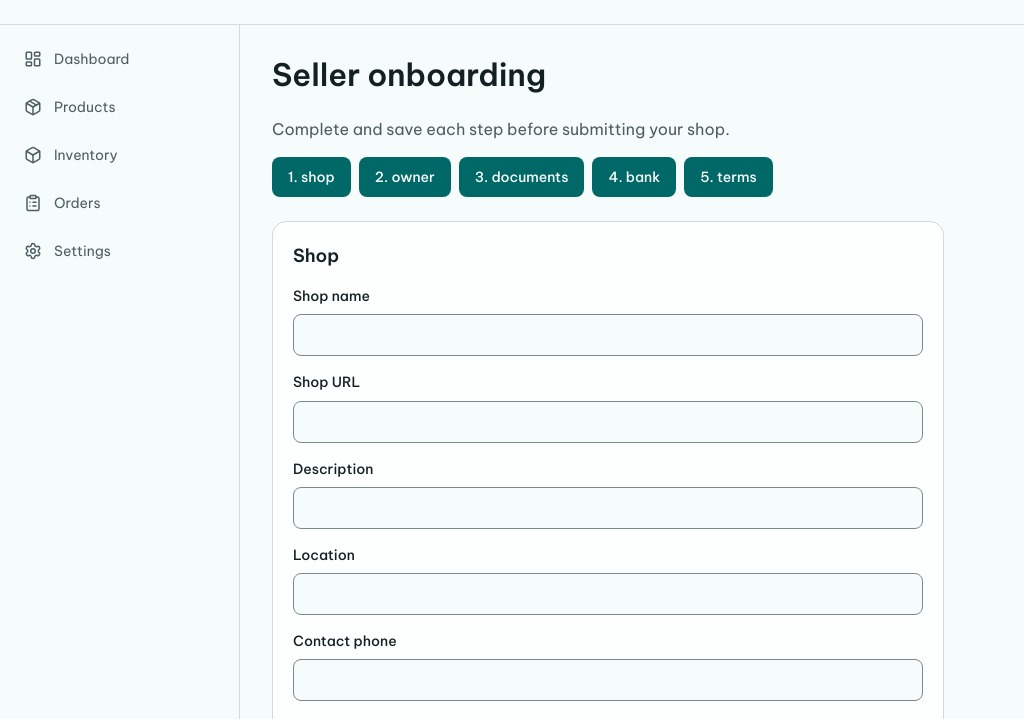
seller routes › saves an onboarding step with the submit button
In the field labelled "Shop name": x=608, y=335 [293, 314, 923, 356], type "New Shop"
In the field labelled "Shop URL": x=608, y=422 [293, 400, 923, 442], type "new-shop"
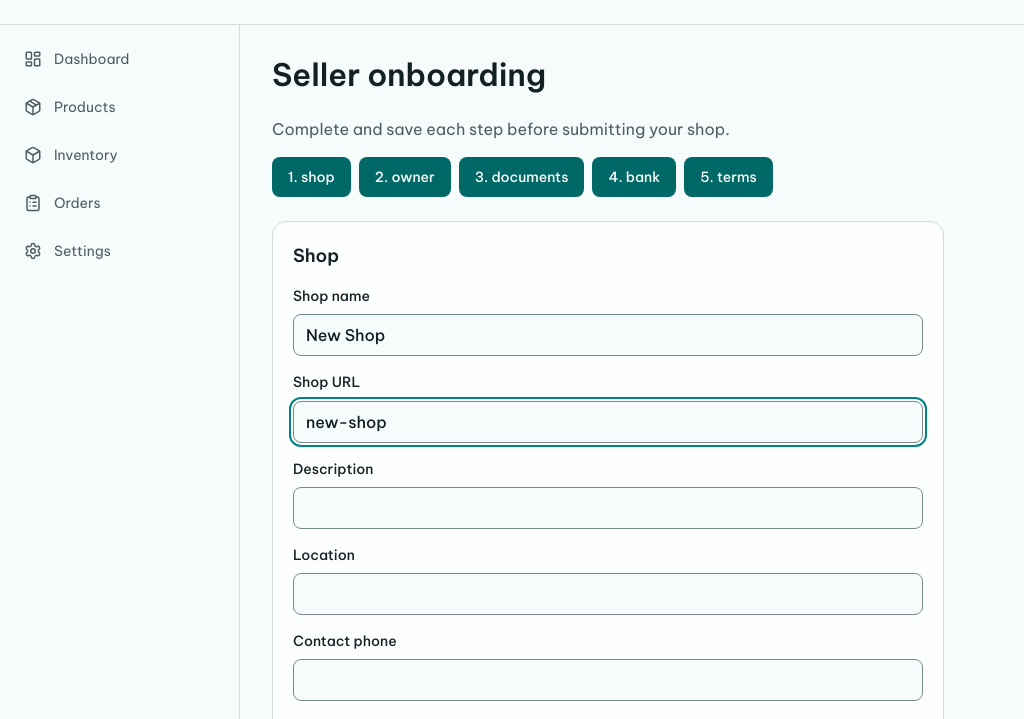
In the field labelled "Description": x=608, y=508 [293, 487, 923, 529], type "Shop description"
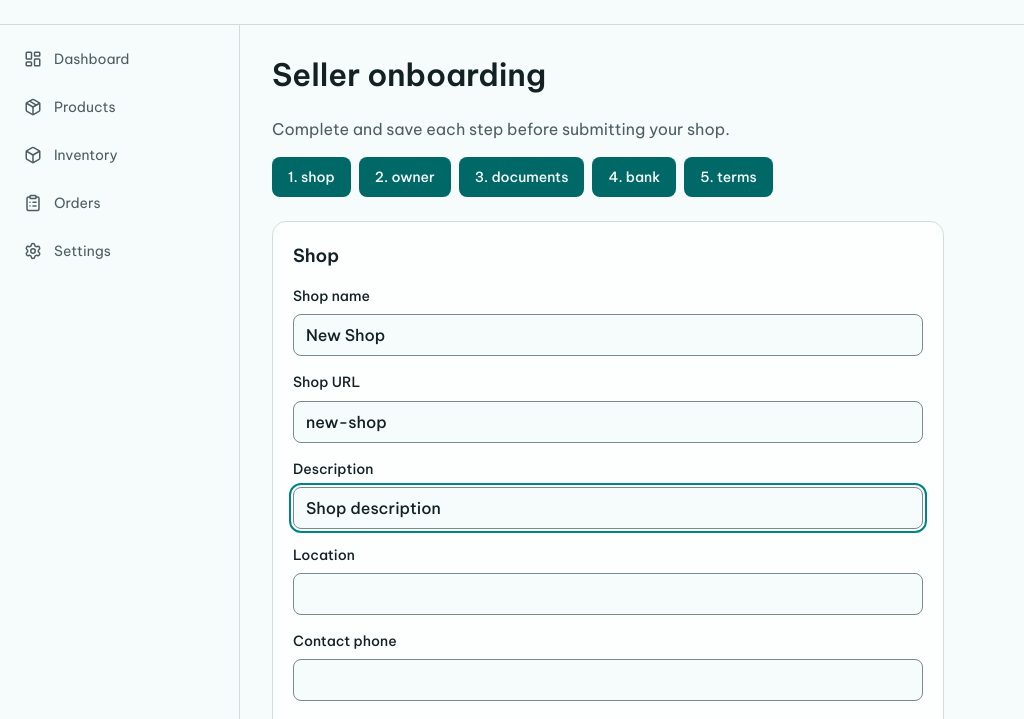
In the field labelled "Location": x=608, y=594 [293, 573, 923, 615], type "Hanoi"
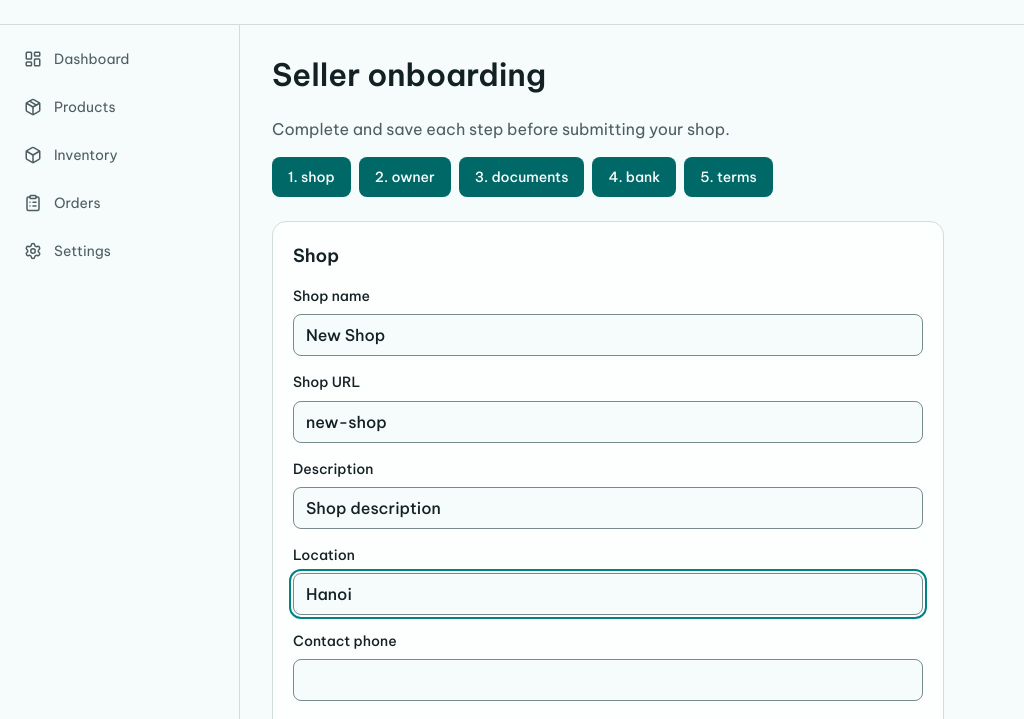
In the field labelled "Contact phone": x=608, y=680 [293, 659, 923, 701], type "0900000001"
(page scrolled)
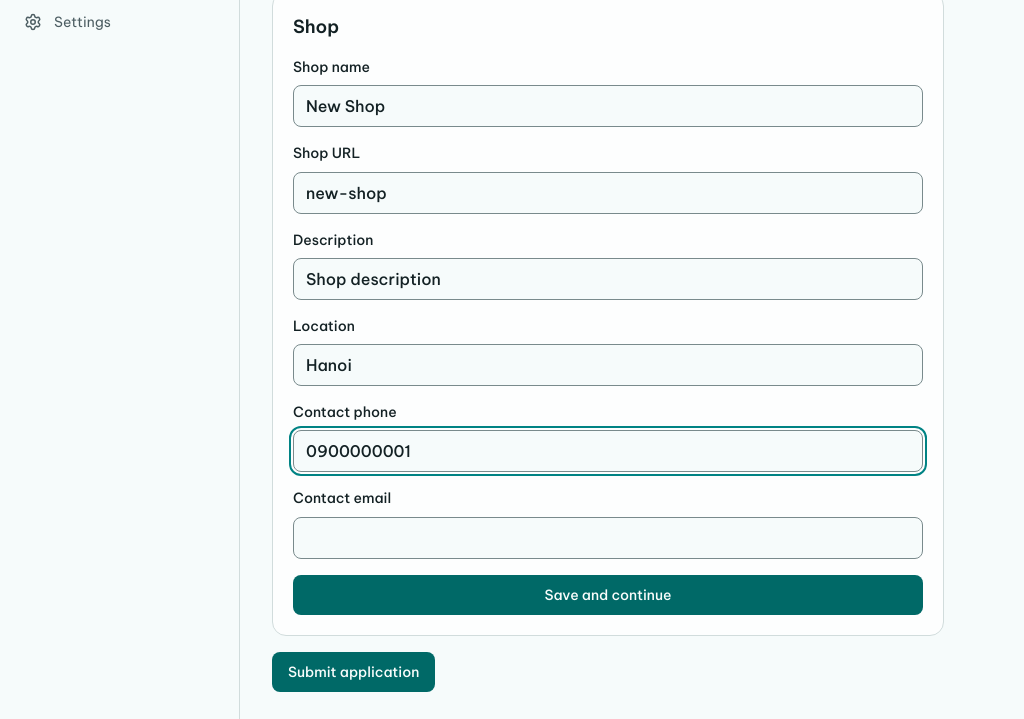
In the field labelled "Contact email": x=608, y=538 [293, 517, 923, 559], type "shop@example.com"
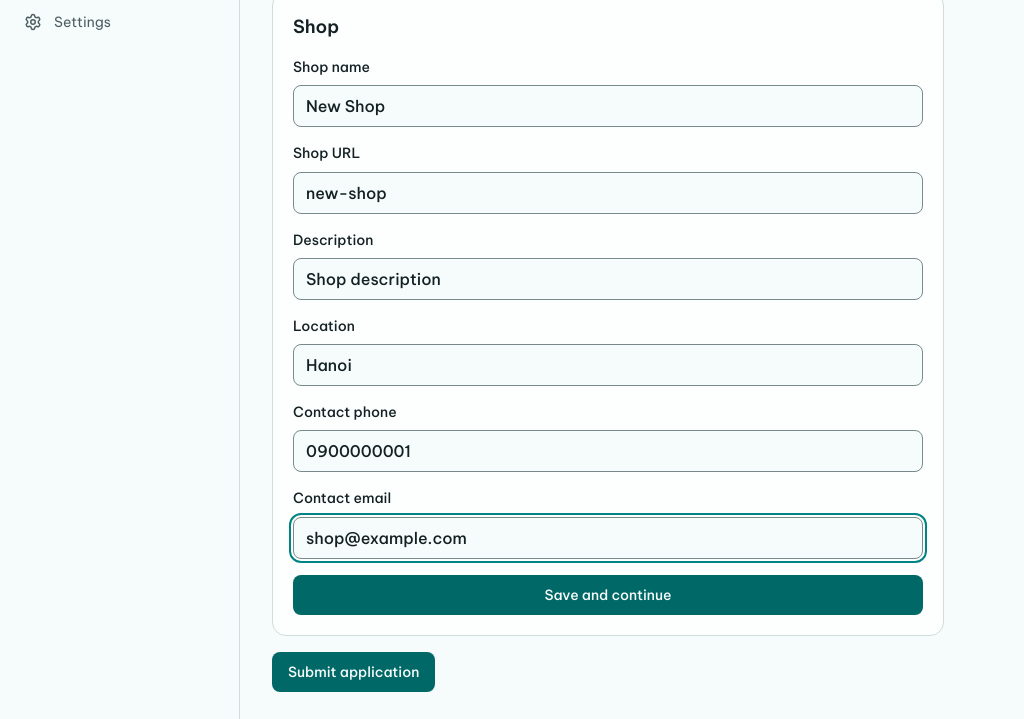
Click the button "Save and continue": x=608, y=595 [293, 575, 923, 615]
(page scrolled)
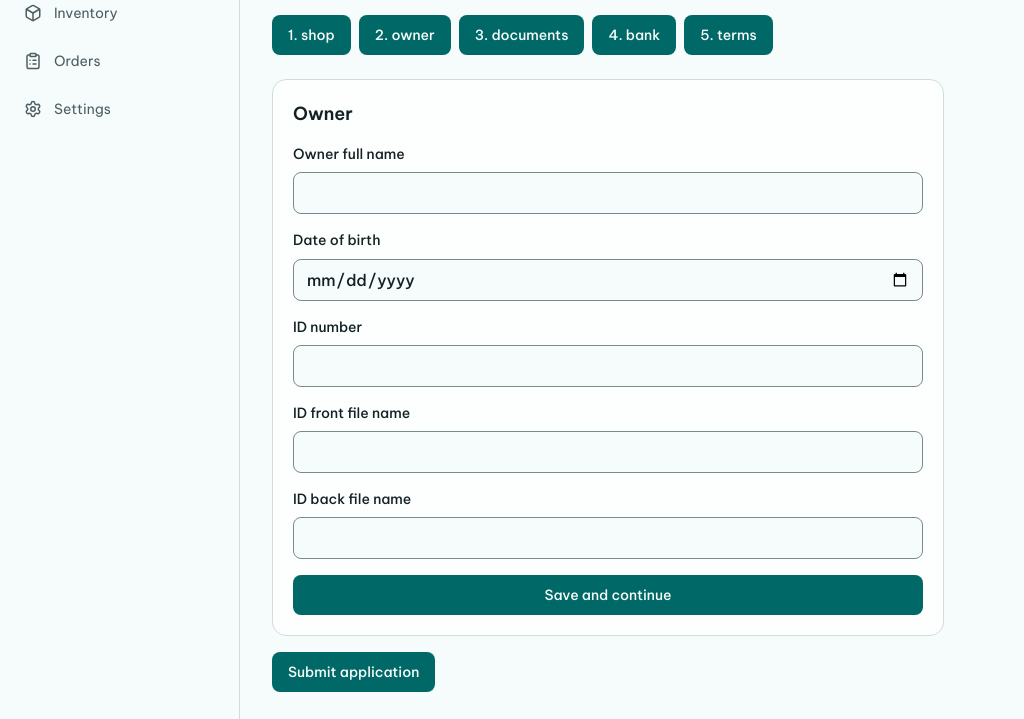
Expected: the field labelled "Owner full name" is shown, [293, 172, 923, 214]
